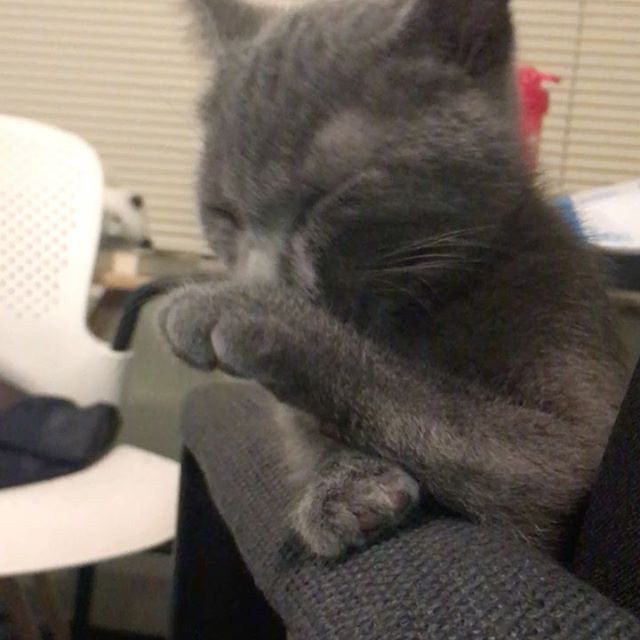cat: (171, 1, 538, 367)
